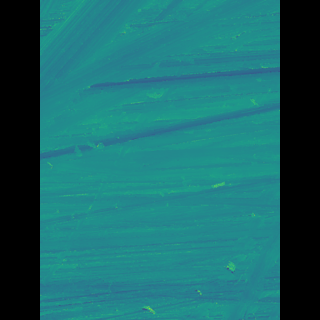Loch: (70, 39, 187, 290), (69, 0, 246, 138), (69, 94, 249, 163)
